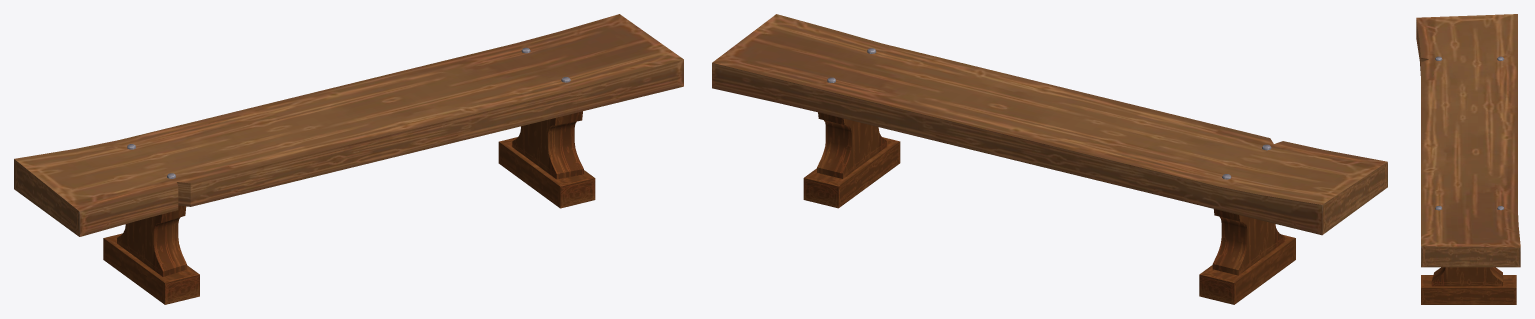
Rendered from Bench.glb.
The picture shows the model from 3 angles, left to right: view 1: azimuth 30°, elevation 25°; view 2: azimuth 150°, elevation 25°; view 3: azimuth 270°, elevation 25°; orthographic projection. The views are drawn at different scales.
Visible parts, largest first — view 1: Bench; view 2: Bench; view 3: Bench.
Part boxes in pixels (x1,y1,x2,y2): Bench: (14, 14, 683, 304); Bench: (712, 14, 1387, 304); Bench: (1416, 14, 1520, 304).
Bounding box in the file's own units: 2.78 × 0.5332 × 0.5342.
Materials: 2 (2 with a texture image).
